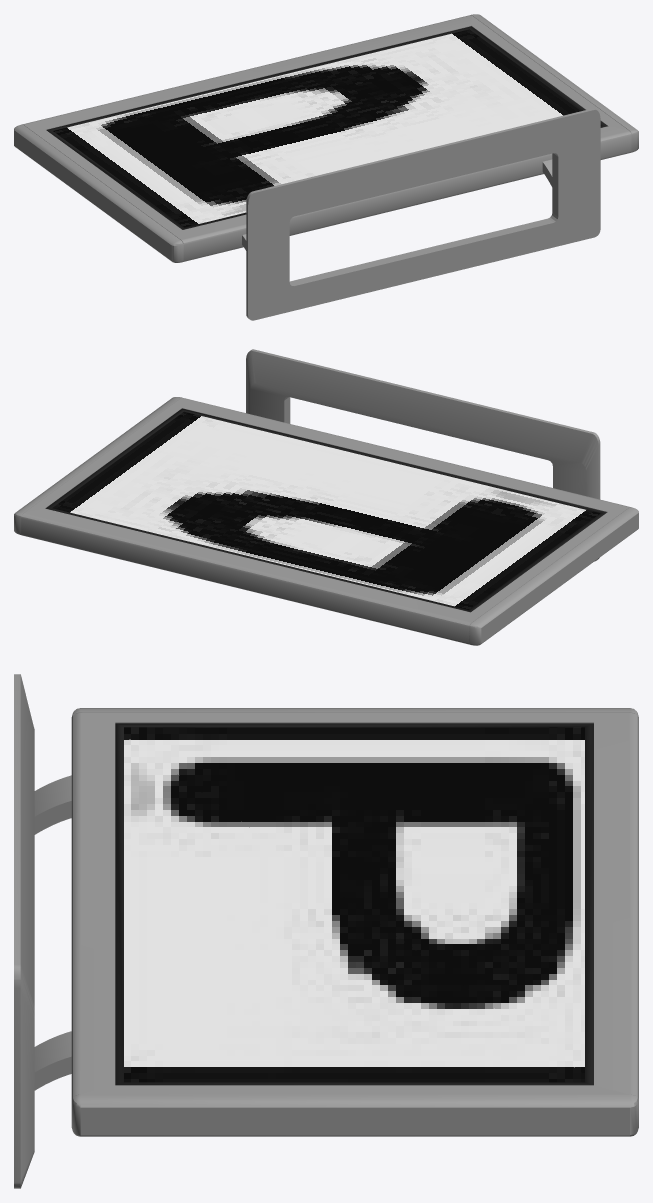
3 views of the same model, one above another, from view 1: azimuth 30°, elevation 25°; view 2: azimuth 150°, elevation 25°; view 3: azimuth 270°, elevation 25° (orthographic). The views are drawn at different scales.
Parts seen in each view (by area): view 1: tv_Chrome_mattv2, Screen2, tv_BLACK_PLSTC; view 2: Screen2, tv_Chrome_mattv2, tv_BLACK_PLSTC; view 3: Screen2, tv_Chrome_mattv2, tv_BLACK_PLSTC.
Part boxes in pixels (x1=…): tv_Chrome_mattv2: x1=14, y1=14, x2=638, y2=320; Screen2: x1=53, y1=29, x2=580, y2=227; tv_BLACK_PLSTC: x1=46, y1=26, x2=607, y2=229; Screen2: x1=52, y1=411, x2=599, y2=609; tv_Chrome_mattv2: x1=14, y1=349, x2=638, y2=645; tv_BLACK_PLSTC: x1=45, y1=408, x2=606, y2=612; Screen2: x1=124, y1=727, x2=584, y2=1082; tv_Chrome_mattv2: x1=14, y1=674, x2=638, y2=1188; tv_BLACK_PLSTC: x1=115, y1=723, x2=593, y2=1085.
Bounding box in the file's own units: 0.00314 × 0.000819 × 0.00208.
4 materials, 1 textured.
